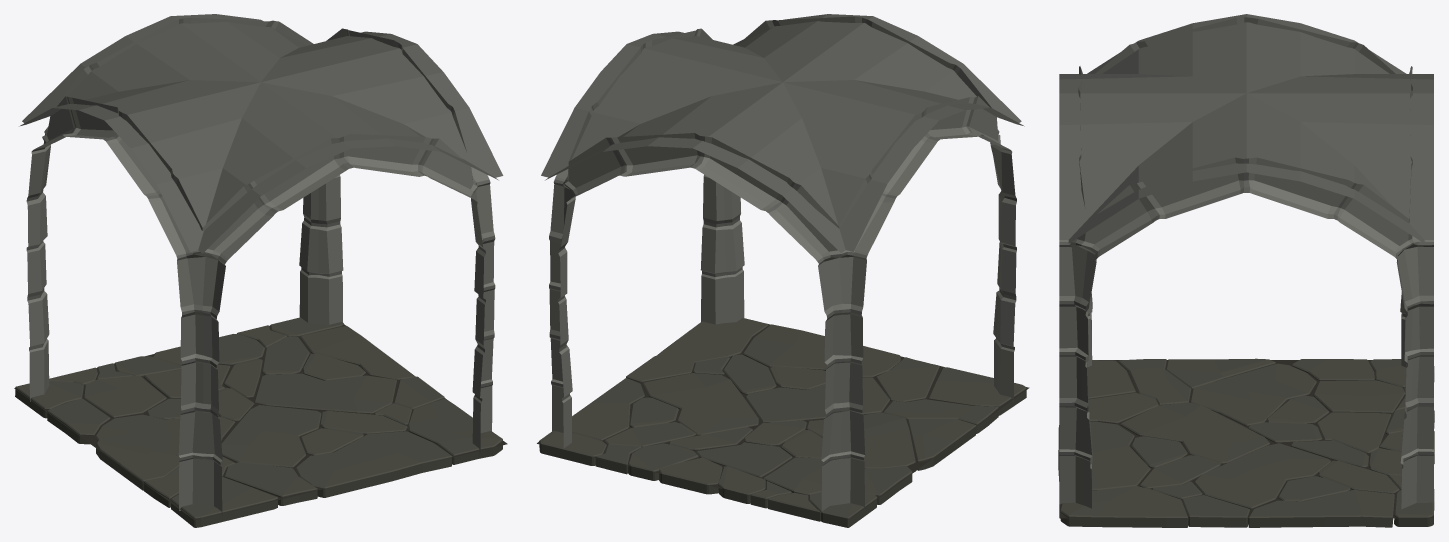
File: Dungeon_CornerCrossing.glb
3 renders of one model, left to right at view 1: azimuth 30°, elevation 25°; view 2: azimuth 150°, elevation 25°; view 3: azimuth 270°, elevation 25°, orthographic. The views are drawn at different scales.
Visible parts, largest first — view 1: Dungeon_CornerCrossing.001; view 2: Dungeon_CornerCrossing.001; view 3: Dungeon_CornerCrossing.001.
Boxes of the visible parts, <box> form: Dungeon_CornerCrossing.001: <box>14,14,507,527</box>; Dungeon_CornerCrossing.001: <box>537,14,1029,527</box>; Dungeon_CornerCrossing.001: <box>1058,14,1434,527</box>.
Bounding box in the file's own units: 4.01 × 4.25 × 4.02.
2 materials, 2 textured.
